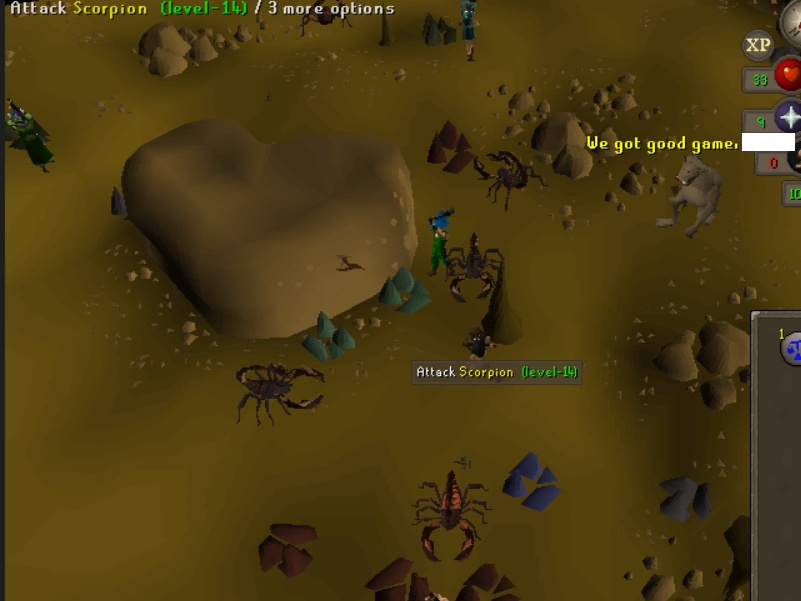adamant: (296, 307, 363, 368), (370, 260, 437, 321)
coal: (1, 106, 56, 152), (418, 6, 461, 53)
iron: (254, 511, 324, 581), (421, 114, 480, 178), (358, 552, 432, 601), (452, 552, 526, 601)
mithril: (496, 446, 568, 517)
